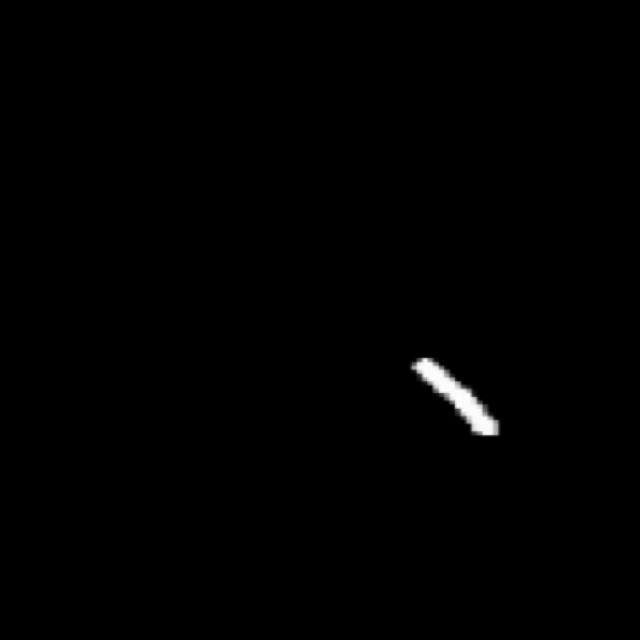one -1-: (396, 344, 524, 451)
